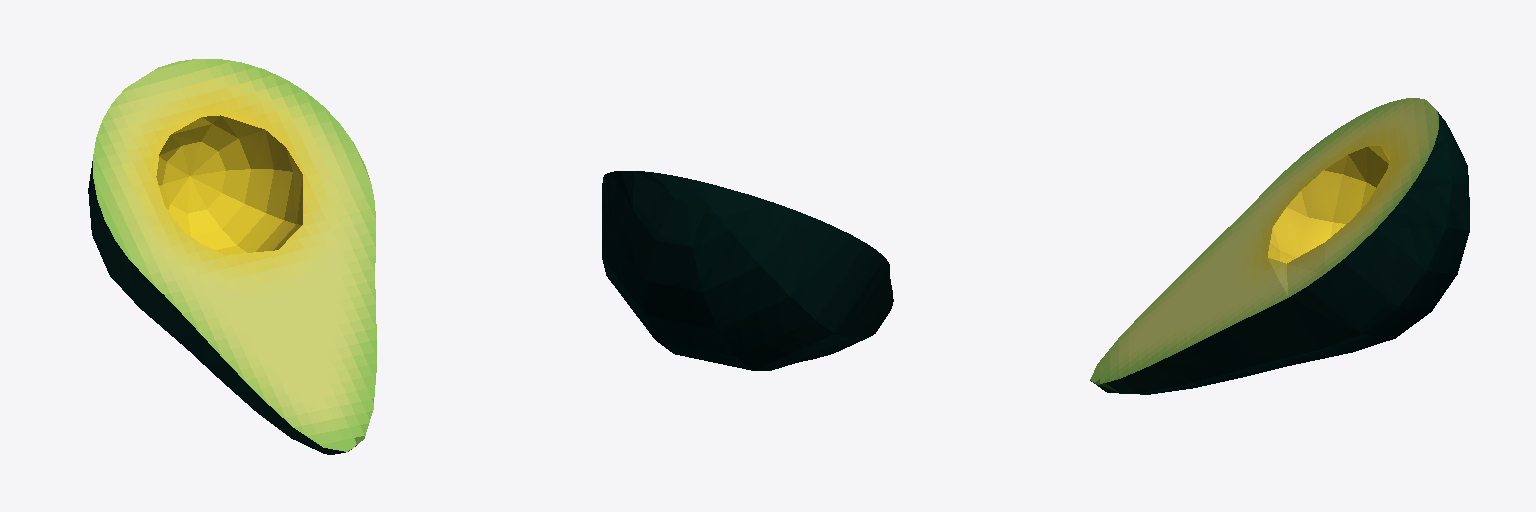
The picture shows the model from 3 angles: view 1: azimuth 30°, elevation 25°; view 2: azimuth 150°, elevation 25°; view 3: azimuth 270°, elevation 25°; orthographic projection.
Parts seen in each view (by area): view 1: pSphere4; view 2: pSphere4; view 3: pSphere4.
Part boxes in pixels (x1,y1,x2,y2): pSphere4: (88, 59, 376, 454); pSphere4: (602, 171, 893, 370); pSphere4: (1090, 98, 1469, 394).
Bounding box in the file's own units: 38.87 × 38.65 × 49.07.
1 materials, 1 textured.